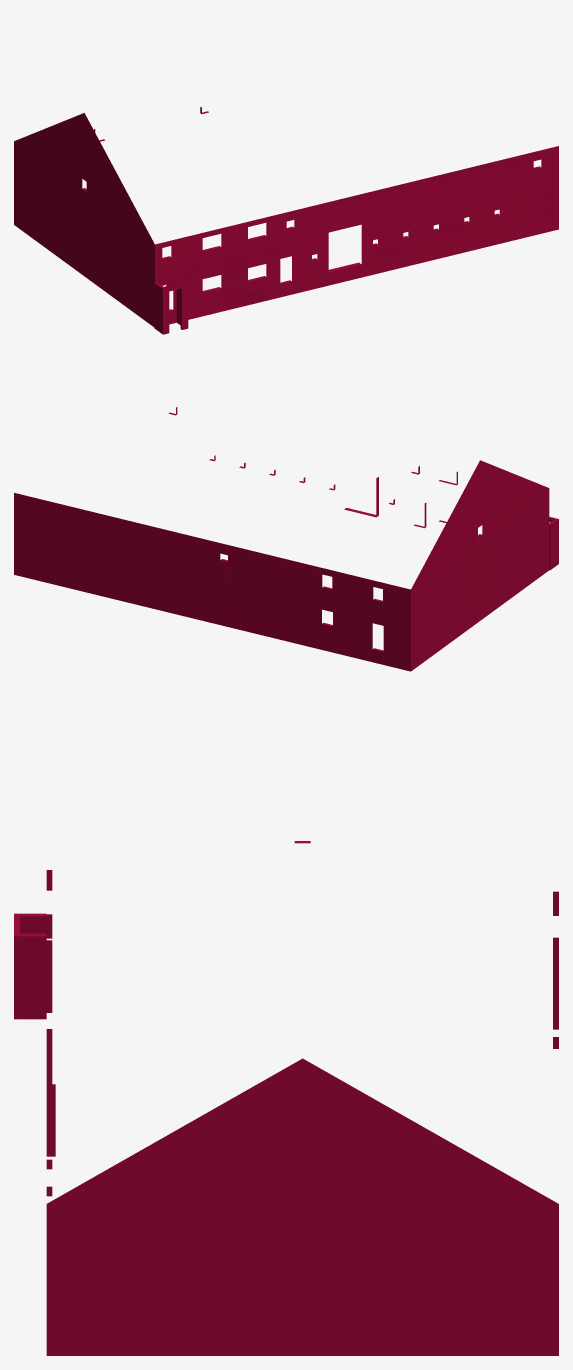
Rendered from SM_Bld_145_Masonry.glb.
The picture shows the model from 3 angles, top to bottom: view 1: azimuth 30°, elevation 25°; view 2: azimuth 150°, elevation 25°; view 3: azimuth 270°, elevation 25°; orthographic projection. The views are drawn at different scales.
Parts seen in each view (by area): view 1: SM_Bld_145_Masonry; view 2: SM_Bld_145_Masonry; view 3: SM_Bld_145_Masonry.
Boxes of the visible parts, x1,y1,x2,y2 form: SM_Bld_145_Masonry: [14, 107, 558, 334]; SM_Bld_145_Masonry: [14, 407, 558, 671]; SM_Bld_145_Masonry: [14, 841, 558, 1355].
Size of the model in its own units: 31.94 by 12.34 by 20.49.
